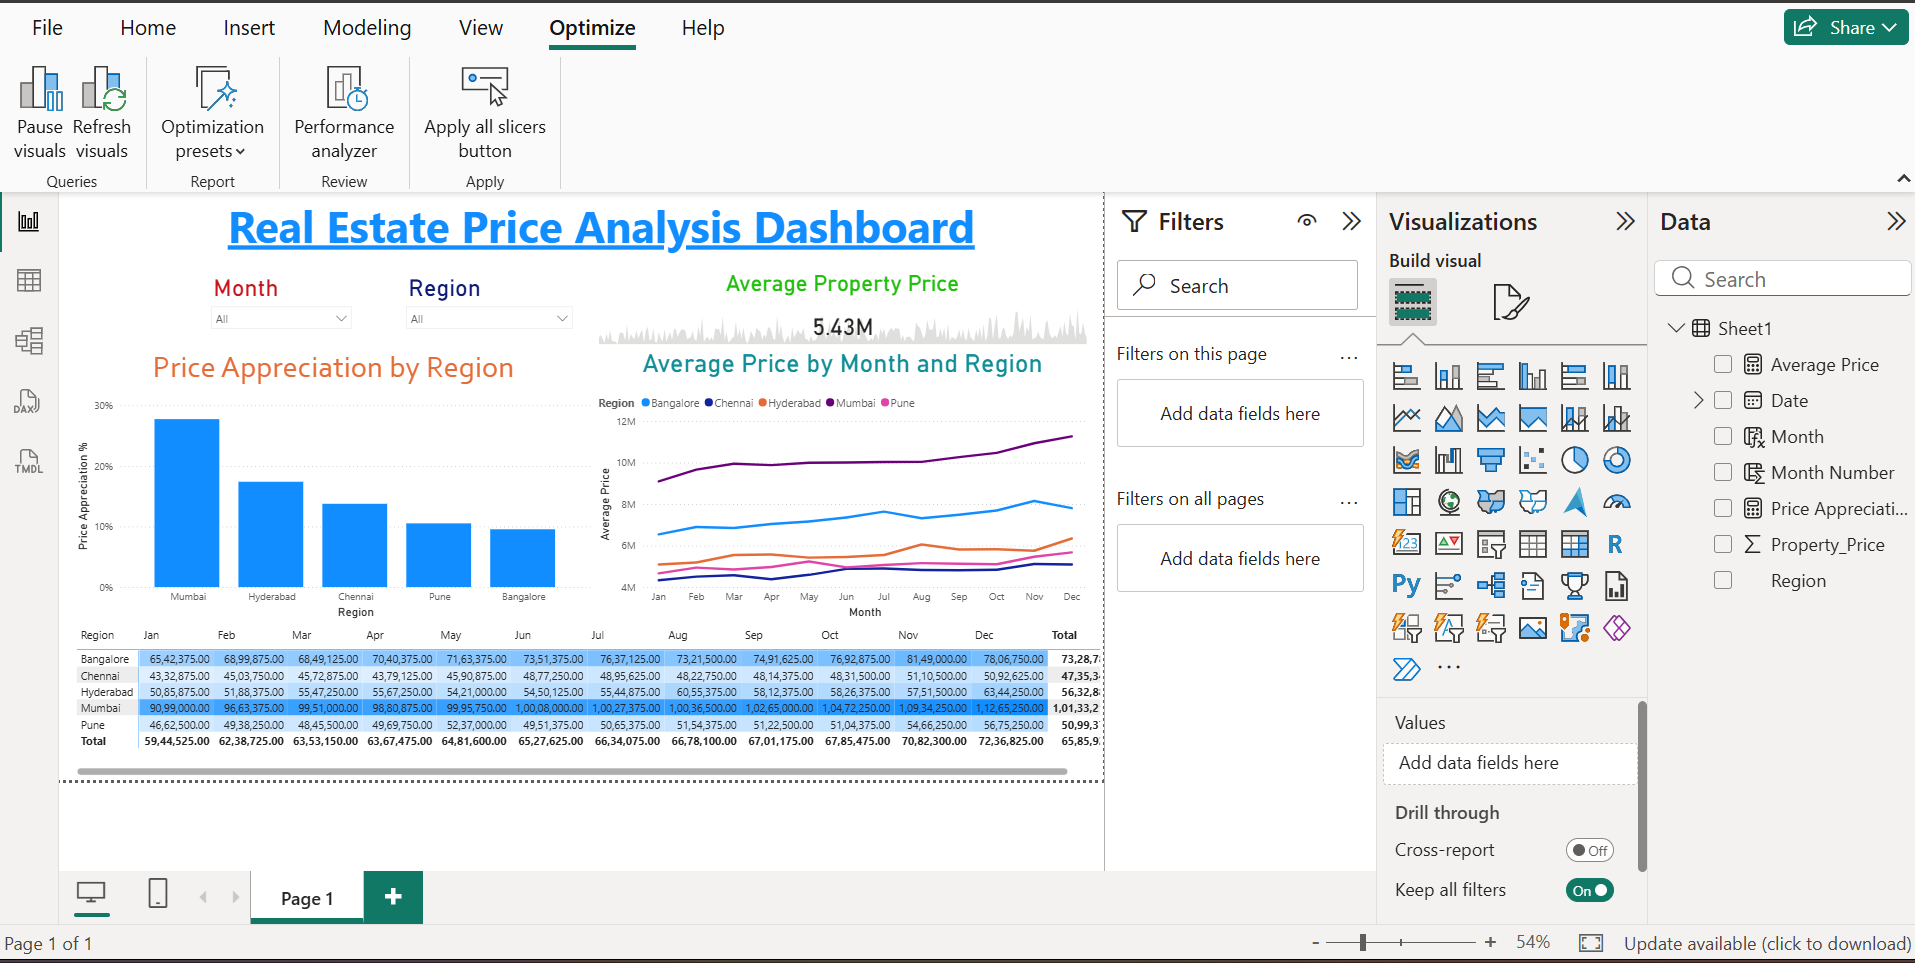

This screenshot's page, from the dashboard's own definition file:
{"tool":"powerbi","page":{"name":"Page 1","canvas":[1280,720],"ordinal":0},"visuals":[{"type":"clusteredColumnChart","title":"Price Appreciation by Region","fields":{"Category":["Sheet1.Region"],"Y":["Sheet1.Price Appreciation %"]},"box":[16,192,528,336],"z":0},{"type":"lineChart","fields":{"Category":["Sheet1.Month"],"Y":["Sheet1.Average Price"],"Series":["Sheet1.Region"]},"box":[544,192,720,336],"z":1000},{"type":"pivotTable","fields":{"Rows":["Sheet1.Region"],"Columns":["Sheet1.Month"],"Values":["Sheet1.Average Price"]},"box":[16,528,1264,192],"z":2000},{"type":"kpi","title":"Average Property Price","fields":{"TrendLine":["Sheet1.Date"],"Indicator":["Sheet1.Average Price"]},"box":[656,96,592,96],"z":3000},{"type":"slicer","fields":{"Values":["Sheet1.Region"]},"box":[432,96,224,96],"z":4000},{"type":"slicer","fields":{"Values":["Sheet1.Month"]},"box":[192,96,240,96],"z":5000},{"type":"textbox","box":[160,0,992,96],"z":6000}]}

Visuals, with their boxes on the page's 1280x720 design canvas (x1, y1, x2, y2). These are canvas units, not pixel positions in the 1915x963 screenshot, which may show the page scaled, cropped or inside an application window:
"Price Appreciation by Region" clusteredColumnChart: x1=16, y1=192, x2=544, y2=528
lineChart - Sheet1.Month x Sheet1.Average Price: x1=544, y1=192, x2=1264, y2=528
pivotTable - Sheet1.Region x Sheet1.Month: x1=16, y1=528, x2=1280, y2=720
"Average Property Price" kpi: x1=656, y1=96, x2=1248, y2=192
slicer - Sheet1.Region: x1=432, y1=96, x2=656, y2=192
slicer - Sheet1.Month: x1=192, y1=96, x2=432, y2=192
textbox: x1=160, y1=0, x2=1152, y2=96
